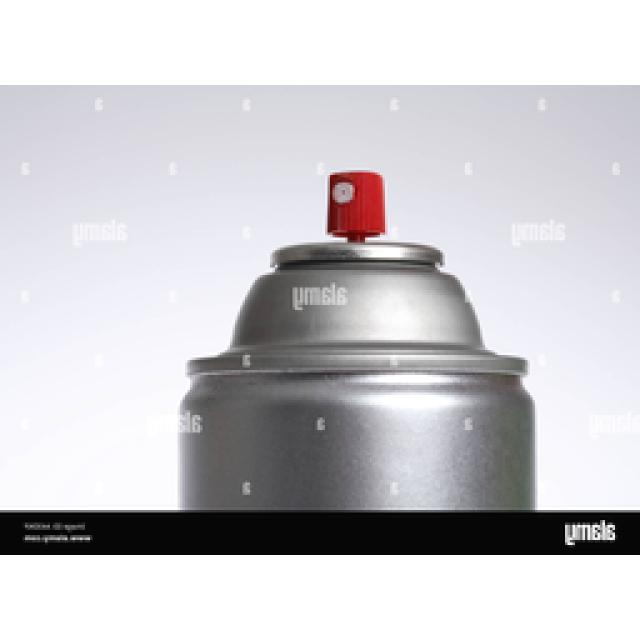zat_kimia: (175, 199, 540, 516)
